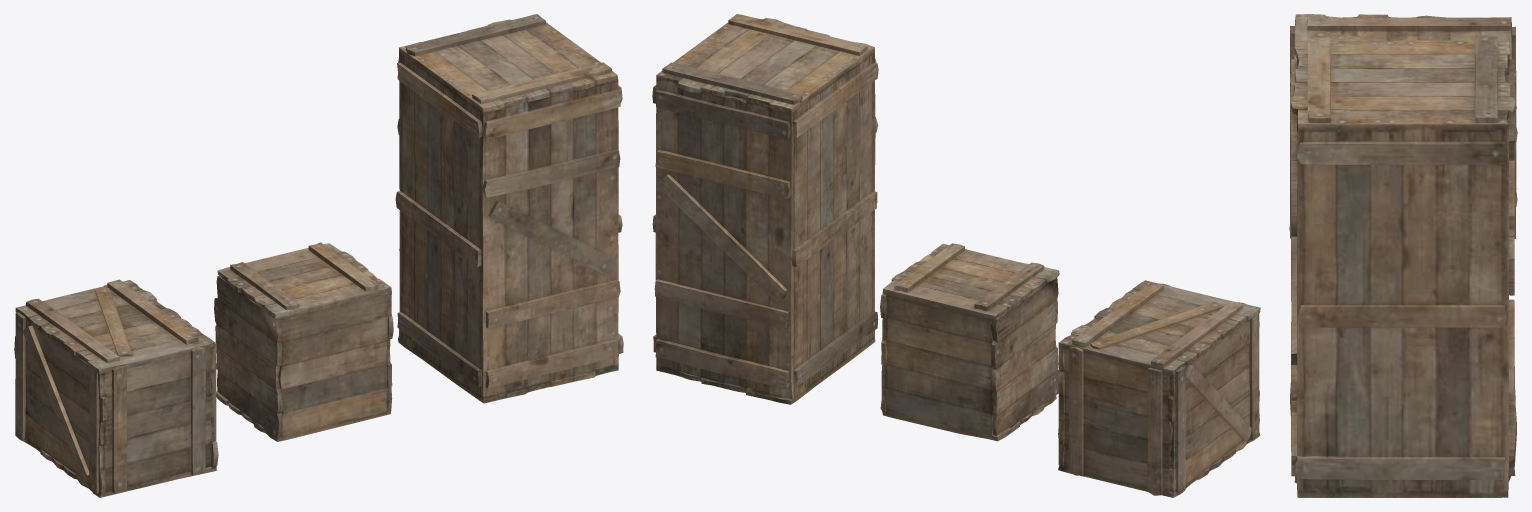
Rendered from p_pallet.glb.
3 renders of one model, left to right at view 1: azimuth 30°, elevation 25°; view 2: azimuth 150°, elevation 25°; view 3: azimuth 270°, elevation 25°, orthographic. The views are drawn at different scales.
Visible parts, largest first — view 1: box, box2, box1; view 2: box, box2, box1; view 3: box, box2.
Part boxes in pixels (x1,y1,x2,y2): box: (395,14,623,403); box2: (14,279,218,497); box1: (214,242,393,441); box: (652,14,878,404); box2: (1058,280,1260,497); box1: (880,243,1059,441); box: (1290,35,1516,497); box2: (1289,14,1517,238).
Size of the model in its own units: 1.14 by 0.6217 by 0.338.
1 material, 1 textured.
